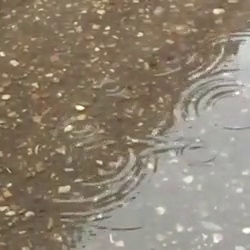drop: (175, 74, 250, 132), (179, 142, 217, 166), (64, 115, 98, 138), (100, 78, 124, 98)
